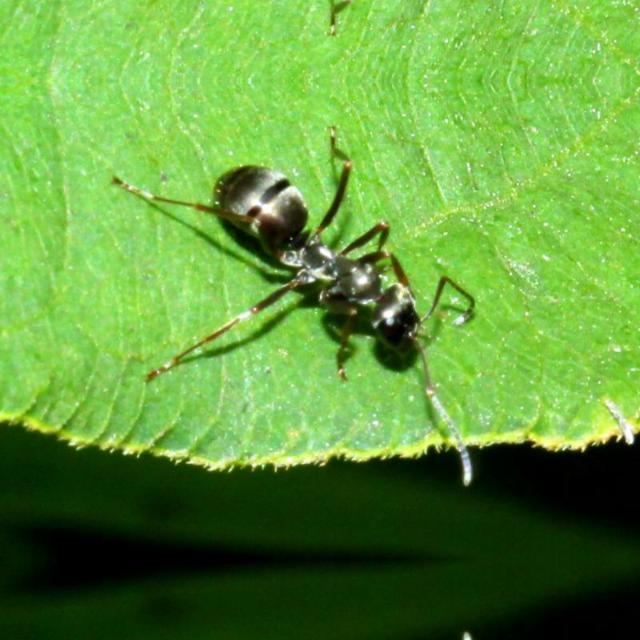Formica: (196, 150, 460, 354)
